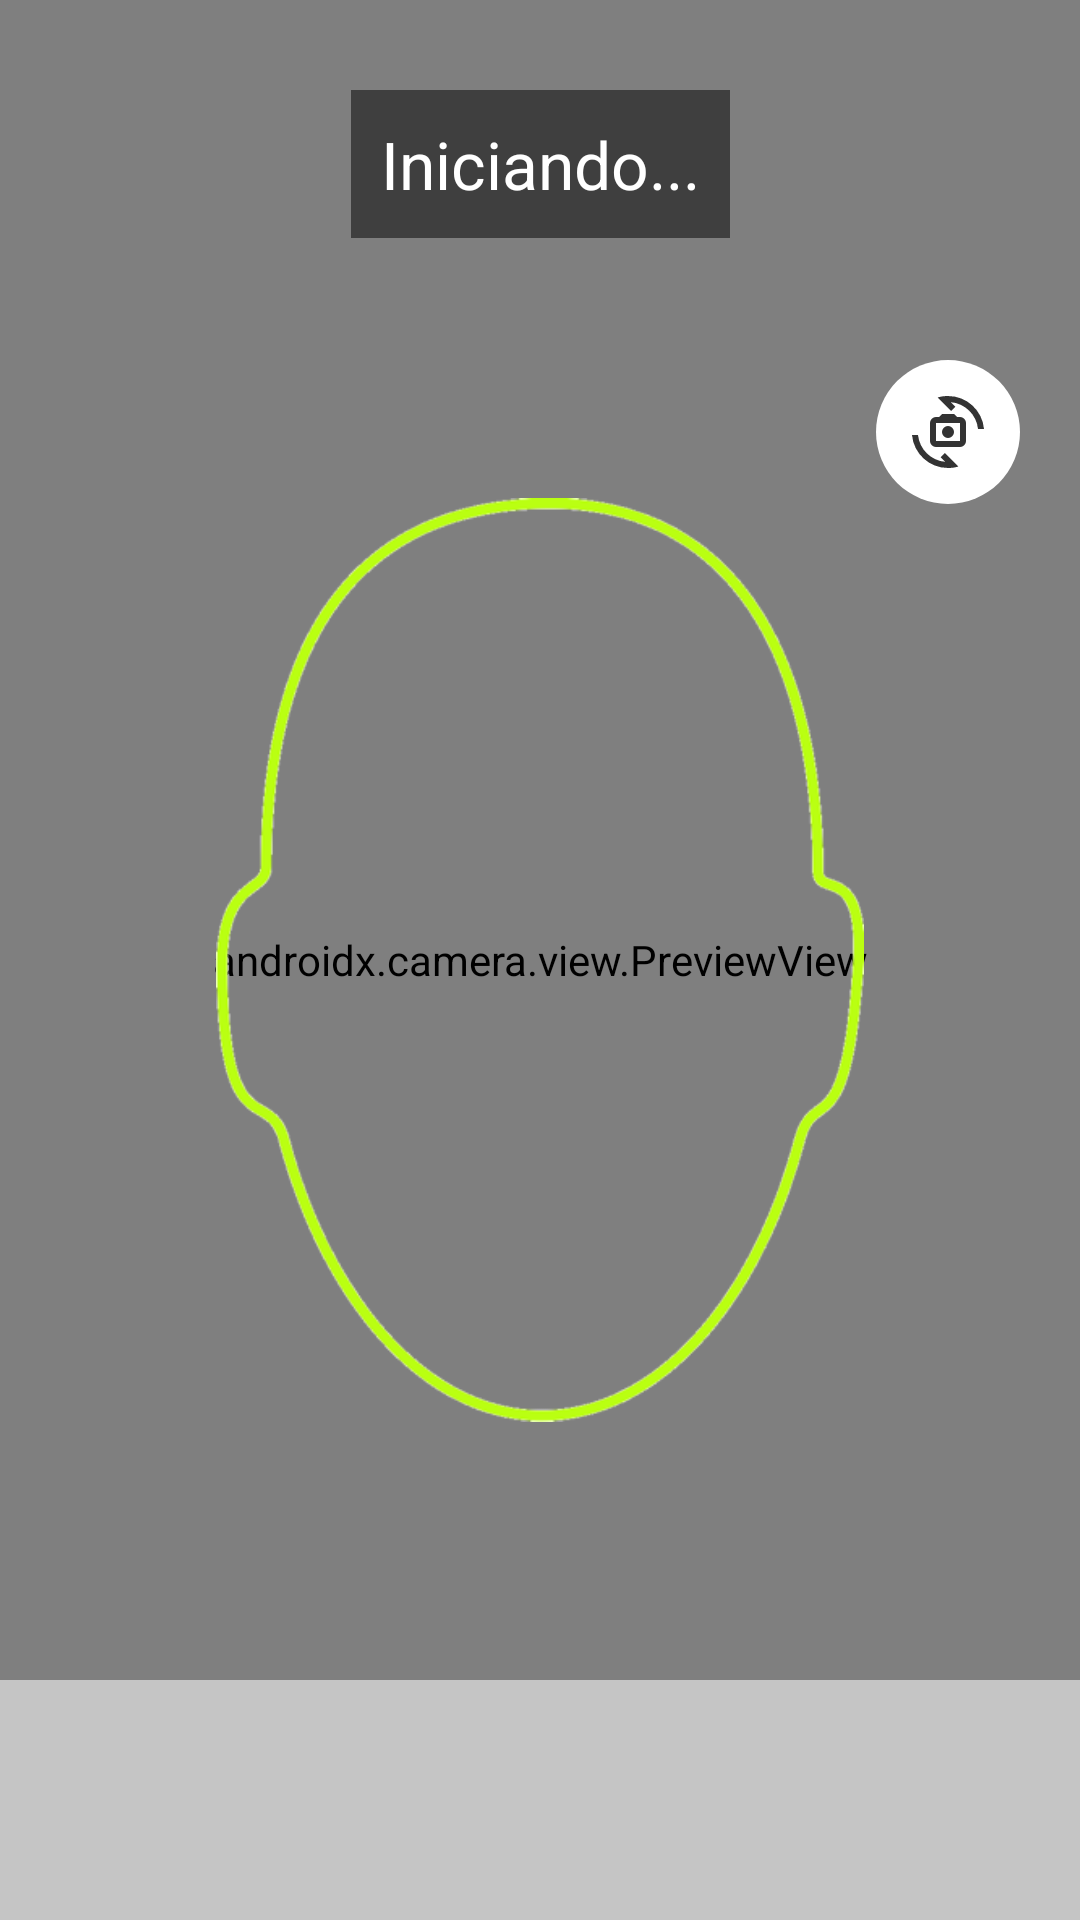

Where icons sit on this 1080 × 1920 app screen, as bbox=[x1, y1, x2, y2]:
Trocar câmera: bbox=[876, 360, 1020, 504]
